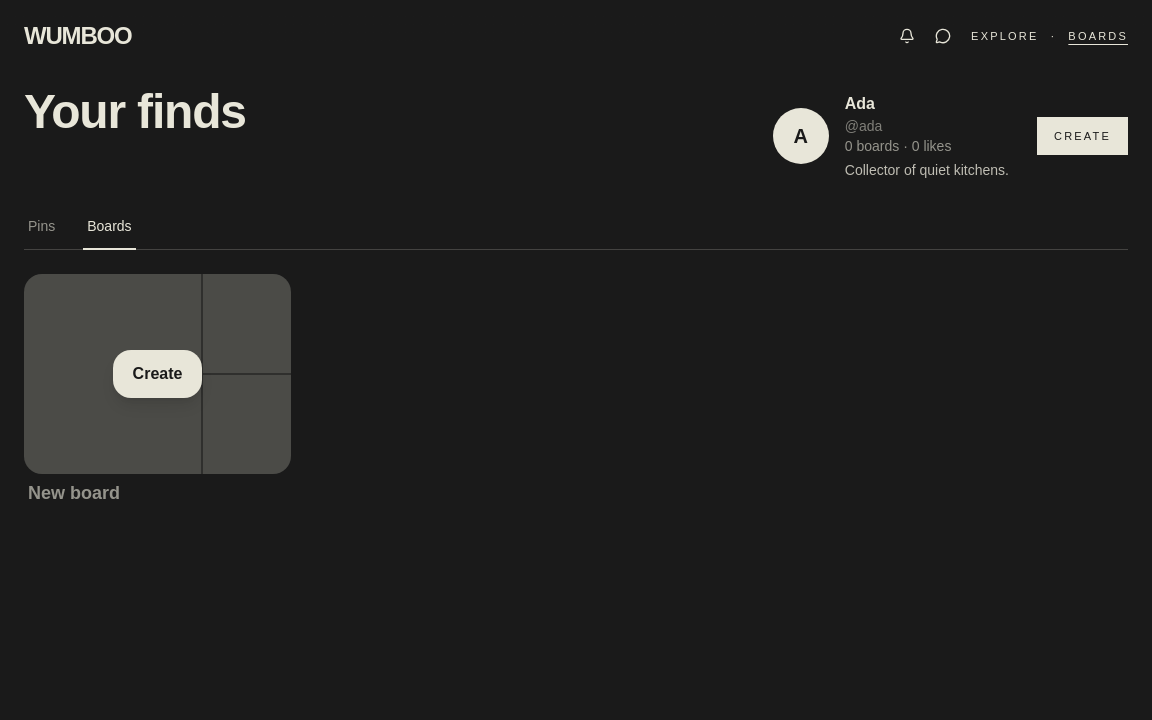
Scenario: BoardsPage › always offers a Create card, which opens the creator like the Create button
The width and height of the screenshot is (1152, 720).
Check: the text "0 boards · 0 likes" is shown, box top-left (845, 138), bottom-right (951, 154)
Click the button with aria-label "Create a board" at x=158, y=389, box top-left (24, 274), bottom-right (291, 505)
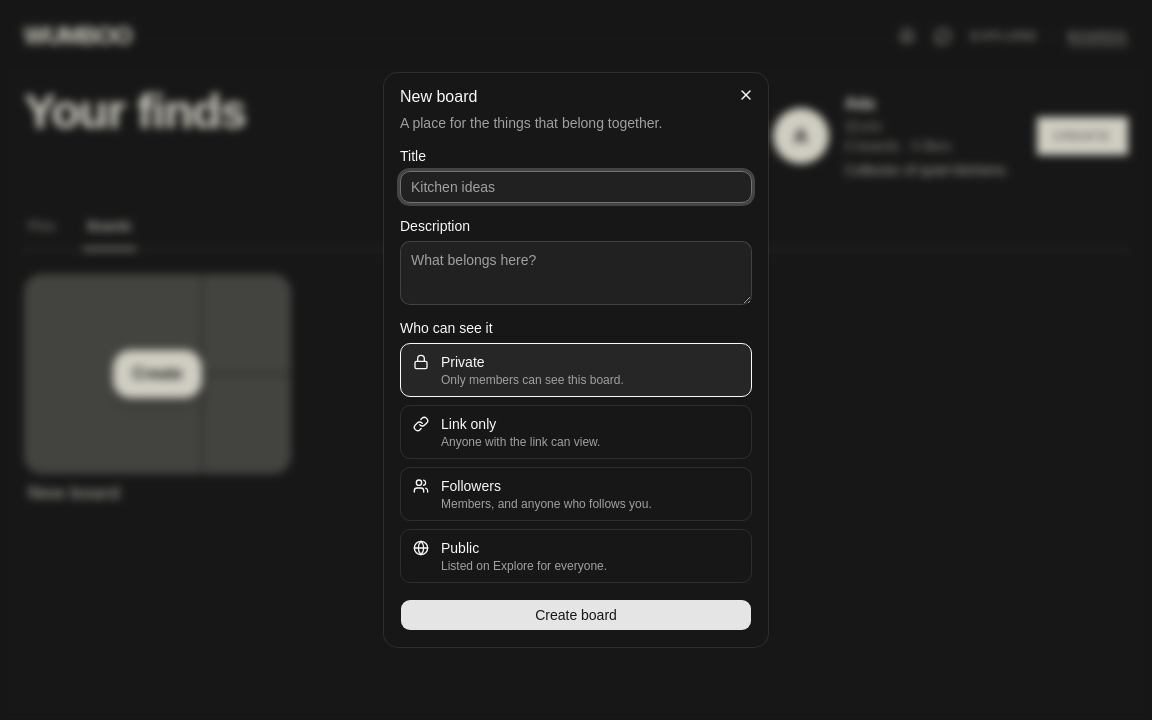
Check: the field labelled "Title" is shown, box top-left (400, 171), bottom-right (752, 203)
